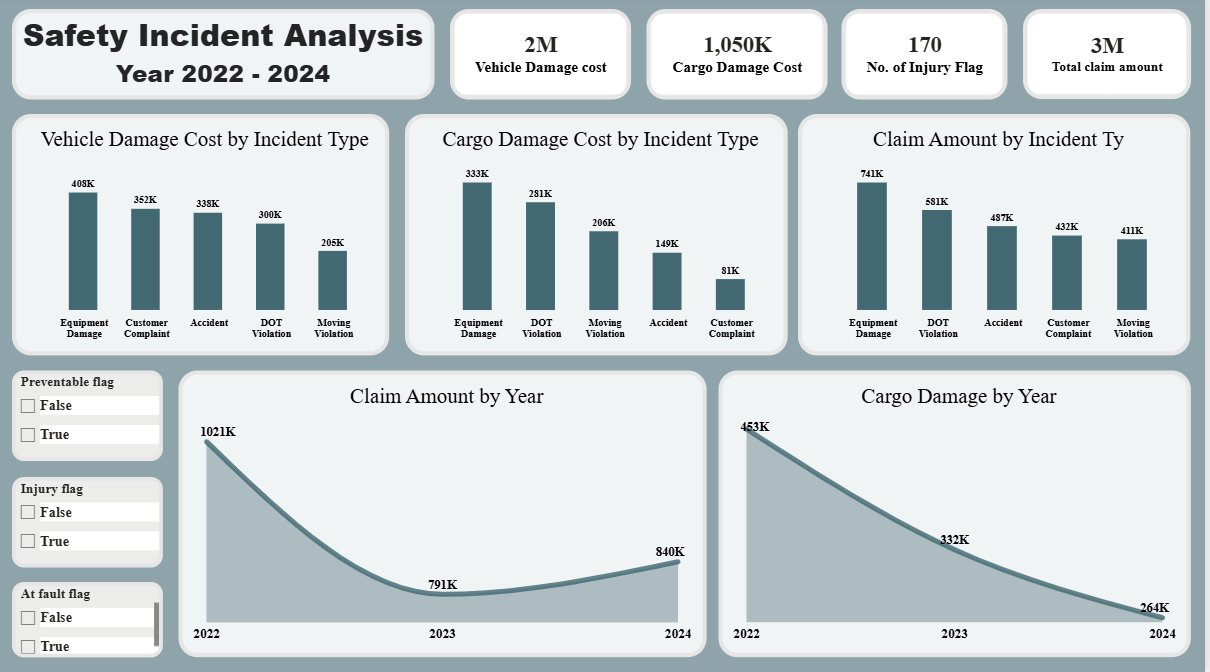

What the dashboard file says about the page in this screenshot:
{"tool":"powerbi","page":{"name":"Safety metrics","canvas":[1920,1080],"ordinal":1},"visuals":[{"type":"columnChart","title":"Cargo Damage Cost by Incident Type","fields":{"Category":["safety_incidents.incident type"],"Y":["Sum(safety_incidents.cargo_damage_cost)"]},"box":[649,190.9,608.4,384.1],"z":0},{"type":"clusteredColumnChart","title":"Vehicle Damage Cost by Incident Type","fields":{"Category":["safety_incidents.incident type"],"Y":["Sum(safety_incidents.vehicle_damage_cost)"]},"box":[24,192,600,384],"z":1000},{"type":"columnChart","title":" Claim Amount by Incident Ty","fields":{"Category":["safety_incidents.incident type"],"Y":["Sum(safety_incidents.claim_amount)"]},"box":[1274.1,190.9,624,384],"z":2000},{"type":"lineChart","title":"Cargo Damage by Year","fields":{"Category":["safety_incidents.Year"],"Y":["Sum(safety_incidents.cargo_damage_cost)"]},"box":[1147.6,598.9,751.6,455.7],"z":3000},{"type":"slicer","fields":{"Values":["safety_incidents.injury_flag"]},"box":[24,768,240,144],"z":4000},{"type":"cardVisual","fields":{"Data":["CountNonNull(safety_incidents.injury_flag)"]},"box":[1344,24,264,144],"z":5000},{"type":"cardVisual","fields":{"Data":["Sum(safety_incidents.cargo_damage_cost)"]},"box":[1032,24,288,144],"z":6000},{"type":"cardVisual","fields":{"Data":["Sum(safety_incidents.vehicle_damage_cost)"]},"box":[720,24,288,144],"z":7000},{"type":"textbox","box":[24,24,672,144],"z":8000},{"type":"lineChart","title":"Claim Amount by Year","fields":{"Category":["safety_incidents.Year"],"Y":["Sum(safety_incidents.claim_amount)"]},"box":[288,600,840,456],"z":9000},{"type":"slicer","fields":{"Values":["safety_incidents.at_fault_flag"]},"box":[24,936,240,120],"z":10000},{"type":"slicer","fields":{"Values":["safety_incidents.preventable_flag"]},"box":[24,600,240,144],"z":11000},{"type":"cardVisual","fields":{"Data":["safety_incidents.Total claim amount"]},"box":[1632,23.9,267.2,143.2],"z":12000}]}

Visuals, with their boxes in screenshot pixels (x1, y1, x2, y2), scaled from the page's 1920x1080 canvas onto the 1210x672 screenshot:
"Cargo Damage Cost by Incident Type" columnChart: bbox=[409, 119, 792, 358]
"Vehicle Damage Cost by Incident Type" clusteredColumnChart: bbox=[15, 119, 393, 358]
" Claim Amount by Incident Ty" columnChart: bbox=[803, 119, 1196, 358]
"Cargo Damage by Year" lineChart: bbox=[723, 373, 1197, 656]
slicer - safety_incidents.injury_flag: bbox=[15, 478, 166, 567]
cardVisual - CountNonNull(safety_incidents.injury_flag): bbox=[847, 15, 1013, 105]
cardVisual - Sum(safety_incidents.cargo_damage_cost): bbox=[650, 15, 832, 105]
cardVisual - Sum(safety_incidents.vehicle_damage_cost): bbox=[454, 15, 635, 105]
textbox: bbox=[15, 15, 439, 105]
"Claim Amount by Year" lineChart: bbox=[182, 373, 711, 657]
slicer - safety_incidents.at_fault_flag: bbox=[15, 582, 166, 657]
slicer - safety_incidents.preventable_flag: bbox=[15, 373, 166, 463]
cardVisual - safety_incidents.Total claim amount: bbox=[1028, 15, 1197, 104]
